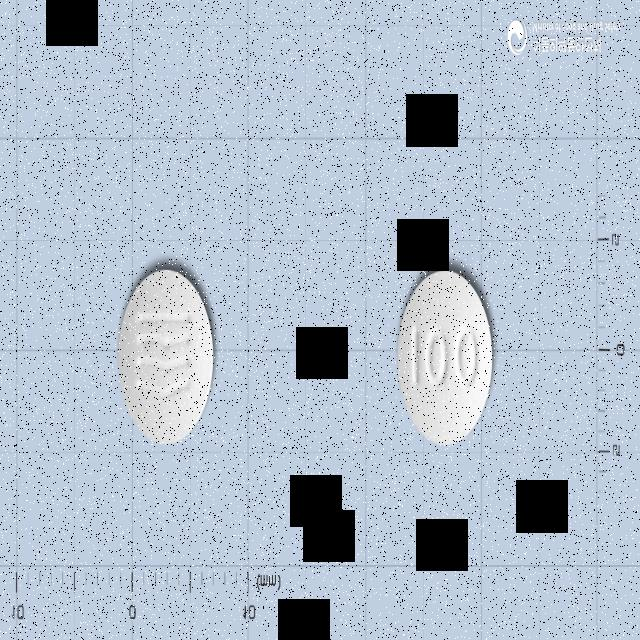Levotra: (118, 269, 215, 447), (397, 270, 494, 448)
